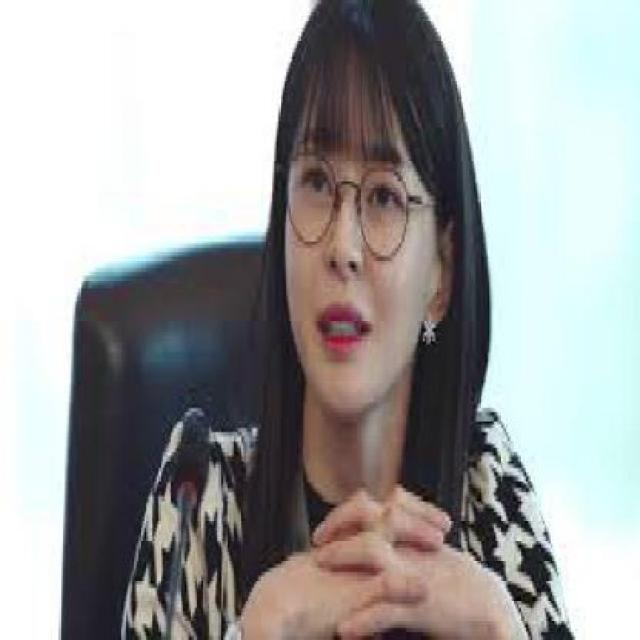Glasses: (276, 145, 418, 256)
